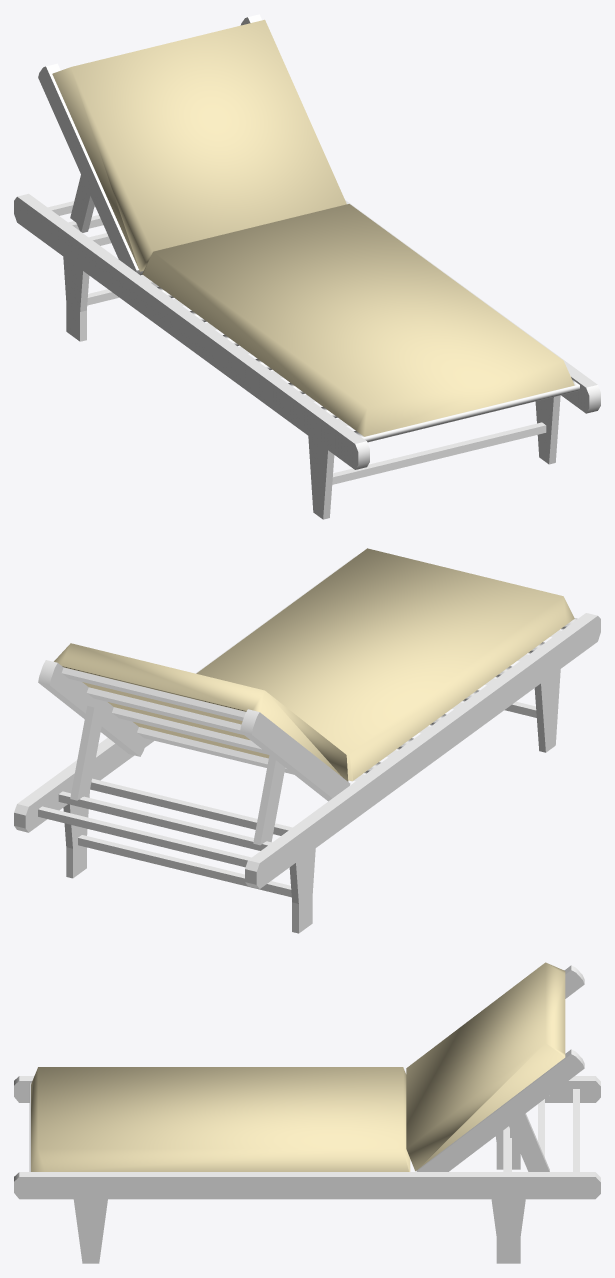
3 renders of one model, top to bottom at view 1: azimuth 30°, elevation 25°; view 2: azimuth 150°, elevation 25°; view 3: azimuth 270°, elevation 25°, orthographic. The views are drawn at different scales.
Parts seen in each view (by area): view 1: Layer0_001; view 2: Layer0_001; view 3: Layer0_001.
Part boxes in pixels (left/top/right/bottom): Layer0_001: left=14, top=14, right=600, bottom=519; Layer0_001: left=14, top=548, right=600, bottom=933; Layer0_001: left=14, top=962, right=600, bottom=1263.
Size of the model in its own units: 34.2 by 33.54 by 84.
